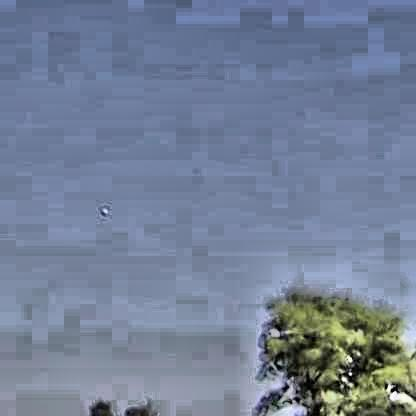golfball: (98, 206, 107, 213)
